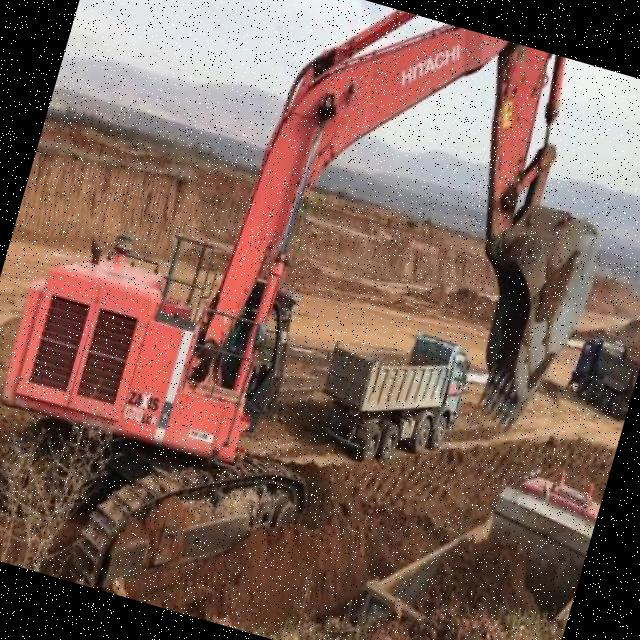Dump Truck: (353, 423, 607, 640), (304, 308, 476, 482), (561, 331, 640, 417)
Excavator: (0, 0, 640, 640)
